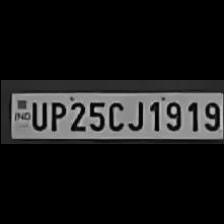1: (144, 98, 162, 132), (182, 98, 200, 132)
2: (65, 98, 85, 132)
5: (84, 99, 106, 131)
9: (161, 98, 183, 132), (200, 99, 222, 131)
C: (105, 98, 124, 132)
J: (124, 98, 144, 132)
P: (46, 99, 64, 131)
U: (27, 98, 46, 130)
